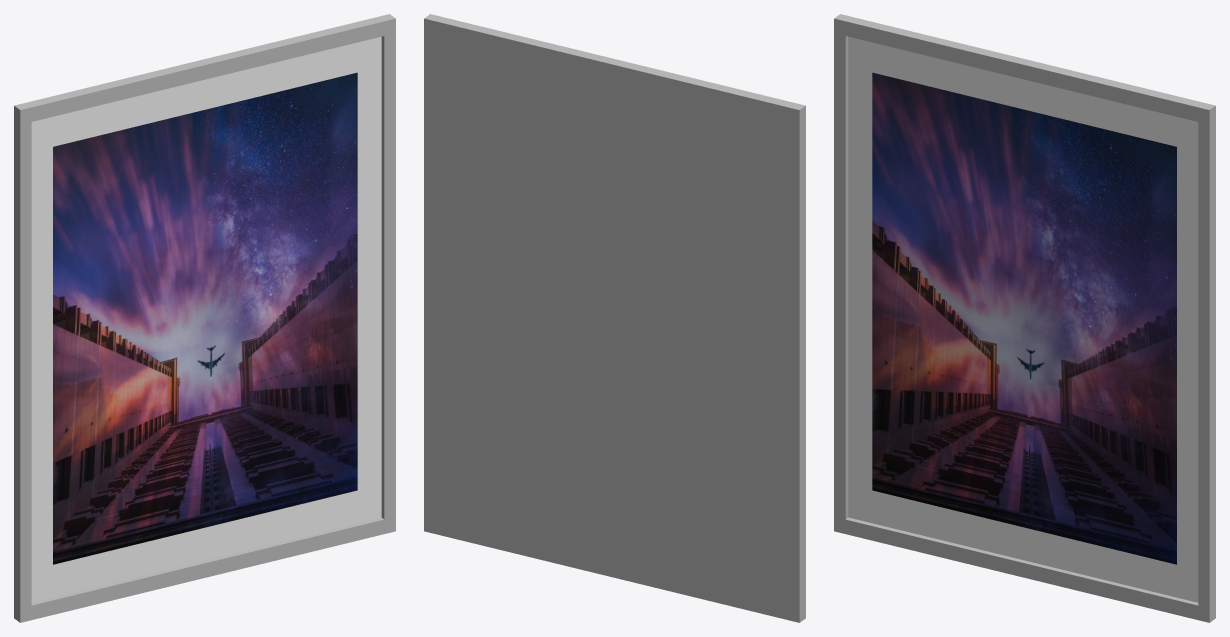
Rendered from Frame 1.glb.
The picture shows the model from 3 angles, left to right: view 1: azimuth 30°, elevation 25°; view 2: azimuth 150°, elevation 25°; view 3: azimuth 330°, elevation 25°; orthographic projection.
Visible parts, largest first — view 1: F1; view 2: F1; view 3: F1.
Part boxes in pixels (box(x1,y1,x2,y2)): F1: box(14, 14, 395, 622); F1: box(424, 14, 805, 622); F1: box(834, 14, 1215, 622).
Bounding box in the file's own units: 0.0815 × 0.1063 × 0.00234.
Materials: 3 (1 with a texture image).
